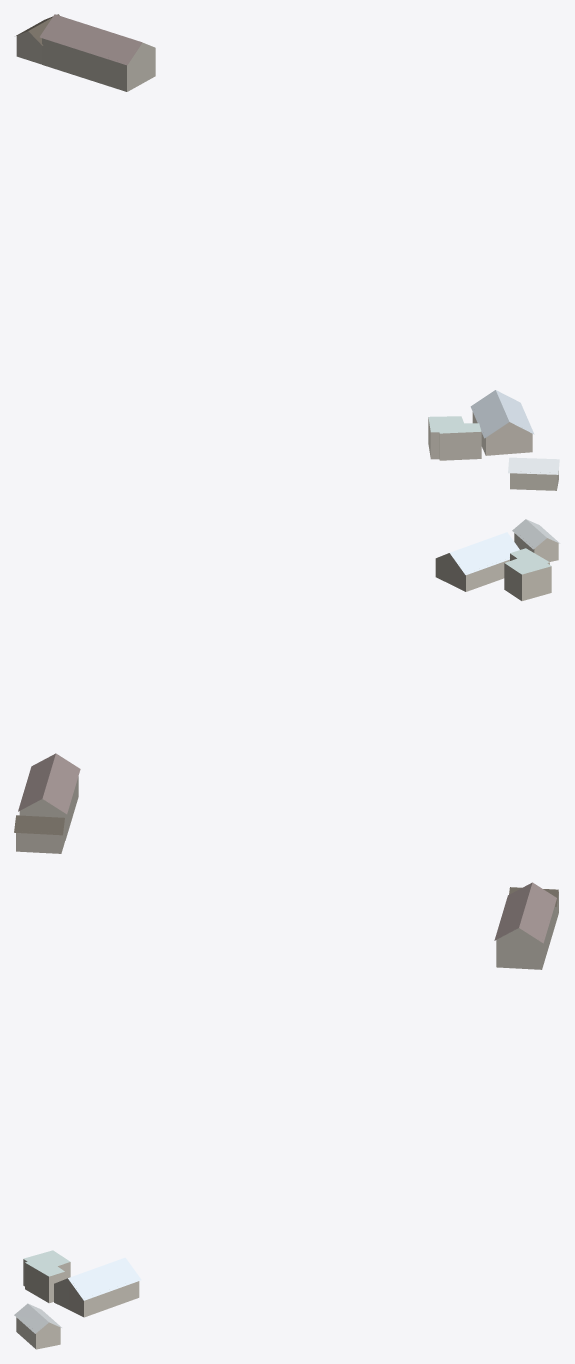
3 renders of one model, top to bottom at view 1: azimuth 30°, elevation 25°; view 2: azimuth 150°, elevation 25°; view 3: azimuth 330°, elevation 25°, orthographic.
Parts seen in each view (by area): view 1: tuile; view 2: tuile; view 3: tuile.
Part boxes in pixels (box(x1,y1,x2,y2)): tuile: box(16, 14, 559, 490); tuile: box(14, 519, 560, 853); tuile: box(14, 882, 558, 1349).
Size of the model in its own units: 29.36 by 23.43 by 207.
